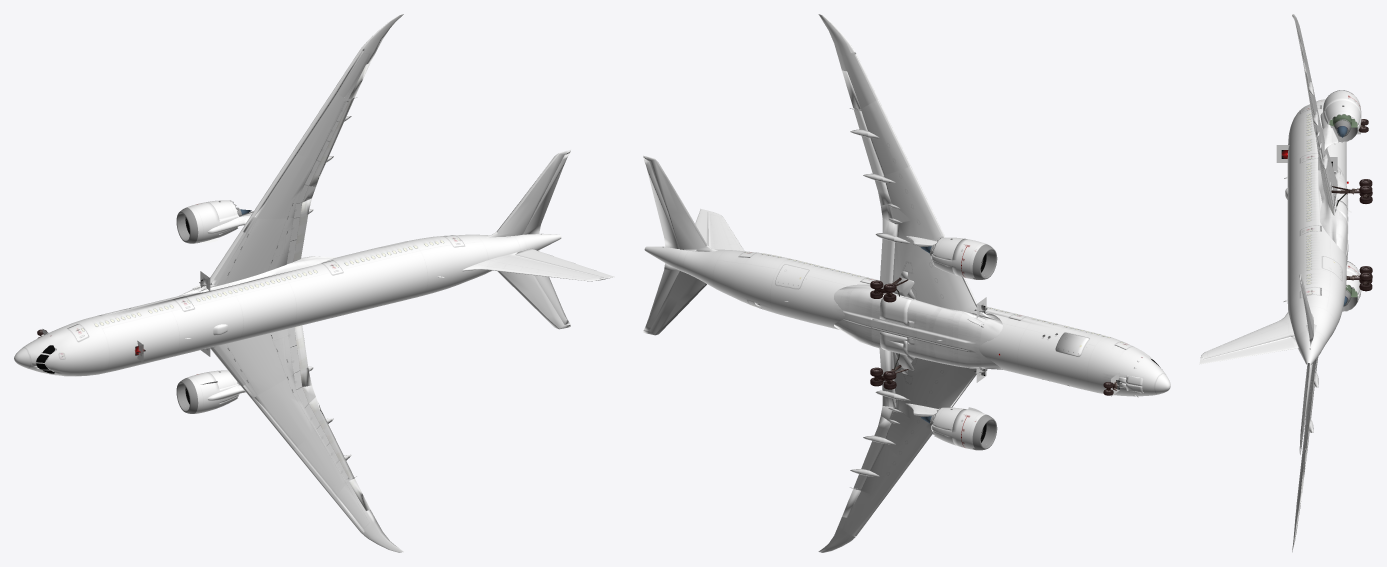
3 views of the same model, side by side, from view 1: azimuth 30°, elevation 25°; view 2: azimuth 150°, elevation 25°; view 3: azimuth 270°, elevation 25° (orthographic).
Parts seen in each view (by area): view 1: fuselage, lwing, rwing, lwinga, rwinga, rstab, fin, lwingb, lwingc, rwingb, lstab, no2enge (+6 smaller); view 2: fuselage, bodyfairing, rwing, lwing, rwinga, lwinga, rwingb, rstab, lwingb, rwingc, lstab, lwingc (+9 smaller); view 3: fuselage, bodyfairing, fin, rudder, rhreverser, windows-bright, rwing, no2enge, lwingc, no2pylon, lhreverser, lhelevator (+5 smaller).
Boxes of the visible parts, <box> form: fuselage: <box>14,233,549,376</box>; lwing: <box>218,329,293,397</box>; rwing: <box>210,217,293,287</box>; lwinga: <box>255,374,316,446</box>; rwinga: <box>255,154,316,218</box>; rstab: <box>486,150,570,237</box>; fin: <box>474,252,602,281</box>; lwingb: <box>297,429,356,494</box>; lwingc: <box>337,481,403,552</box>; rwingb: <box>297,94,357,159</box>; lstab: <box>501,271,570,329</box>; no2enge: <box>181,202,239,243</box>; fuselage: <box>655,246,1170,396</box>; bodyfairing: <box>834,284,1002,369</box>; rwing: <box>892,236,985,316</box>; lwing: <box>892,352,982,408</box>; rwinga: <box>882,167,941,240</box>; lwinga: <box>882,399,931,462</box>; rwingb: <box>849,100,907,175</box>; rstab: <box>643,155,717,251</box>; lwingb: <box>850,443,907,505</box>; rwingc: <box>818,14,876,108</box>; lstab: <box>643,271,706,335</box>; lwingc: <box>818,491,875,552</box>; fuselage: <box>1287,99,1346,359</box>; bodyfairing: <box>1319,166,1348,264</box>; fin: <box>1201,315,1298,359</box>; rudder: <box>1199,336,1298,364</box>; rhreverser: <box>1324,100,1361,142</box>; windows-bright: <box>1306,109,1311,294</box>; rwing: <box>1317,146,1337,208</box>; no2enge: <box>1323,90,1361,124</box>; lwingc: <box>1292,451,1306,552</box>; no2pylon: <box>1320,112,1340,150</box>; lhreverser: <box>1342,271,1361,311</box>; lhelevator: <box>1300,363,1312,451</box>.
Bounding box in the file's own units: 62.75 × 59.54 × 17.42.
62 materials, 50 textured.
